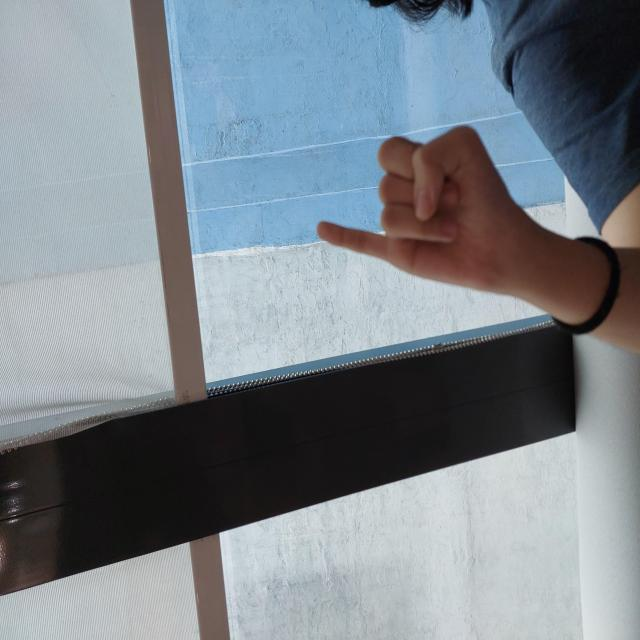I: (347, 316, 517, 498)
